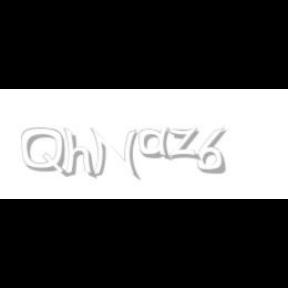6: (198, 128, 226, 176)
N: (89, 128, 138, 180)
Q: (21, 128, 67, 178)
a: (138, 128, 176, 160)
h: (64, 128, 98, 180)
z: (167, 128, 203, 160)
